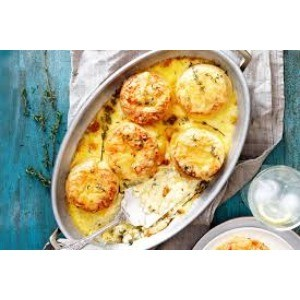cheese_brain food: (108, 86, 171, 148), (69, 169, 111, 214)
